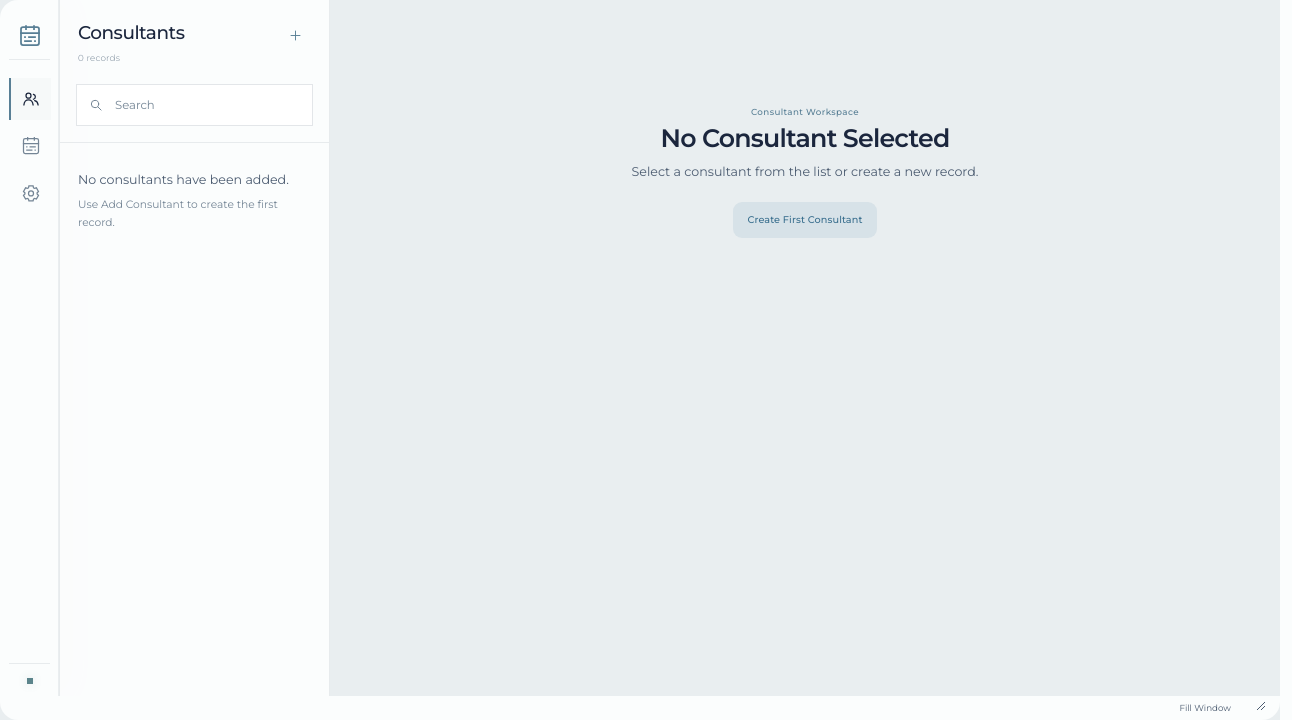
Test case: consultant directory › organises settings into focused categories
This screenshot has width=1292, height=720.
Click the button named "Settings" at (30, 193), box [9,172,51,214]
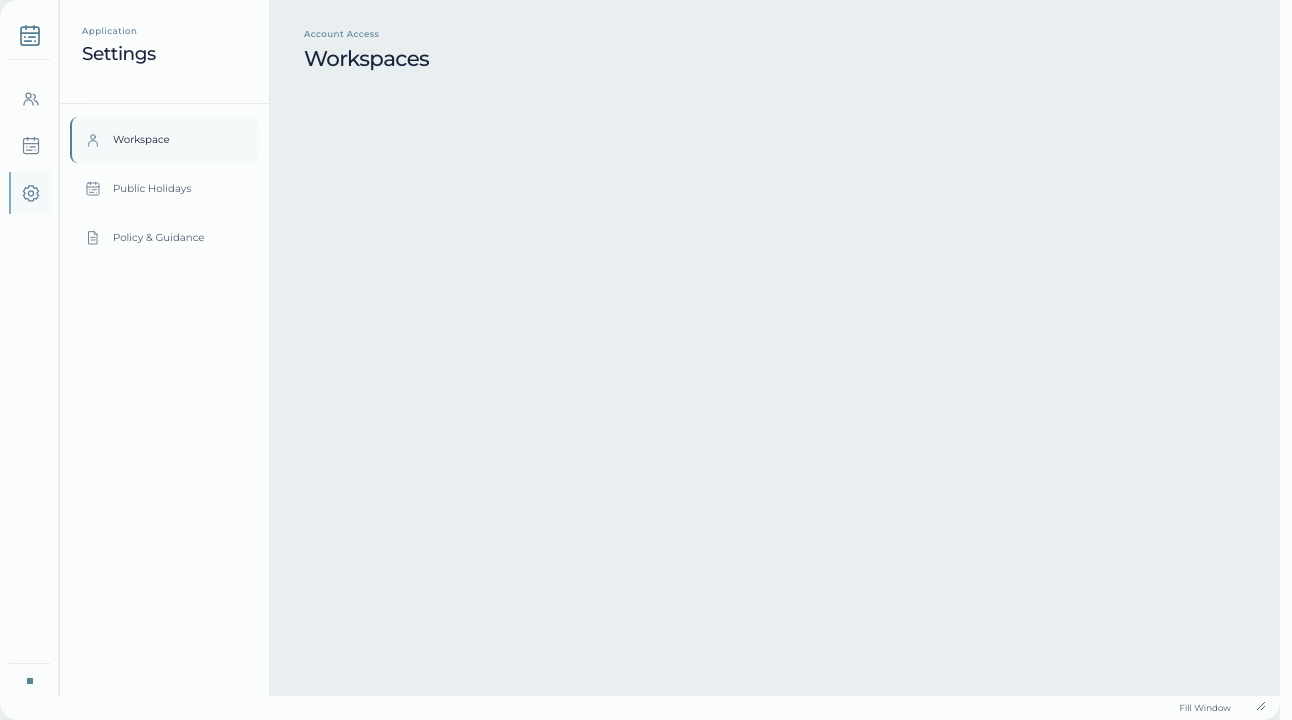
Check: the heading "Workspaces" is shown, box [304,45,429,71]
Click the button "Public Holidays" at (164, 189), box [70,166,259,212]
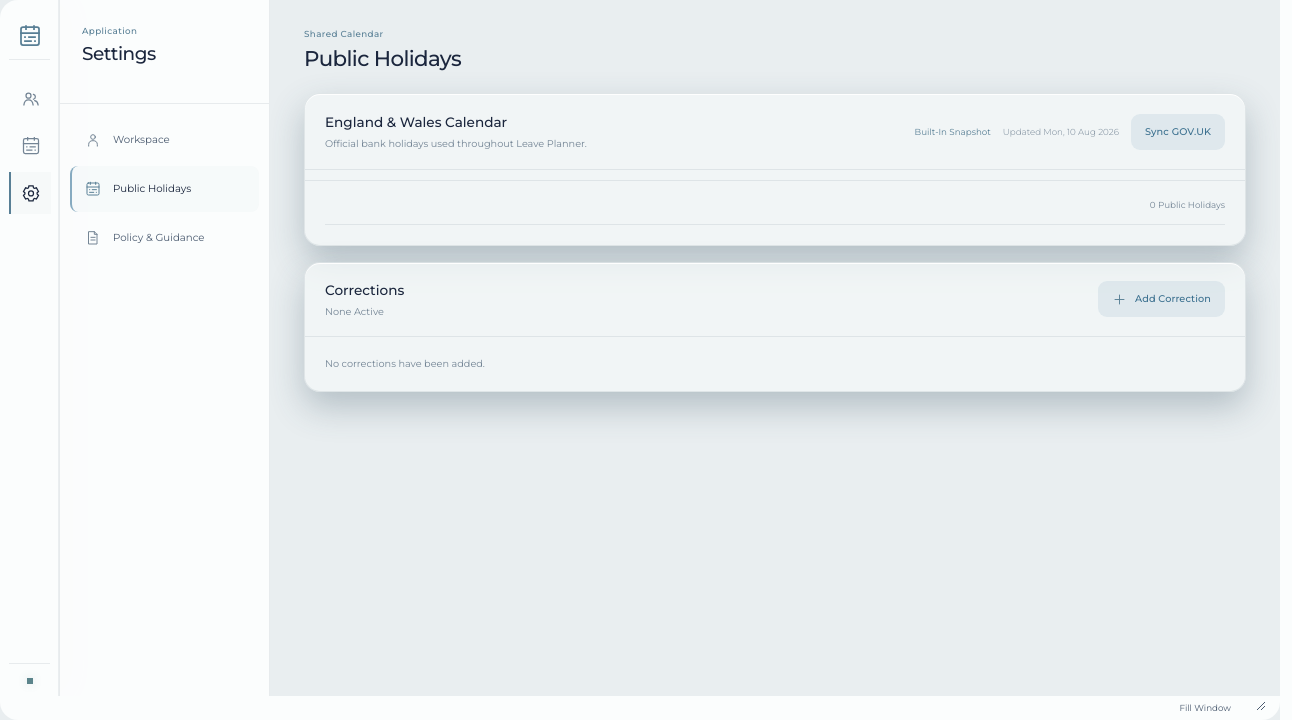
Check: the heading "Public Holidays" is shown, box [304,47,461,70]
Check: the heading "England & Wales Calendar" is shown, box [325,114,507,130]
